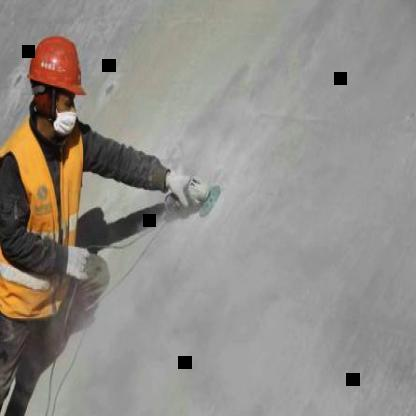helmet: (26, 27, 88, 136)
